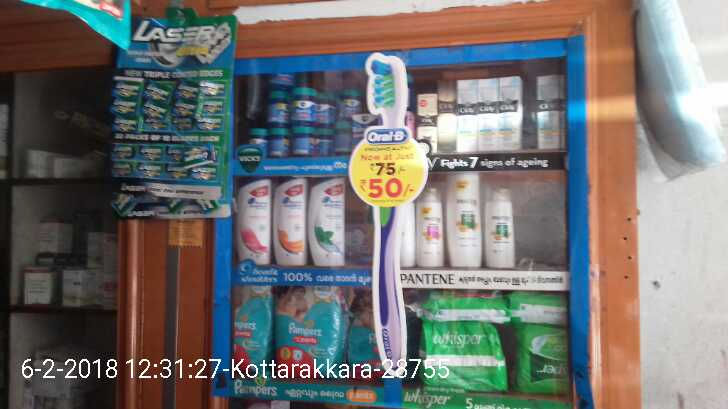vicks: (247, 67, 356, 154)
